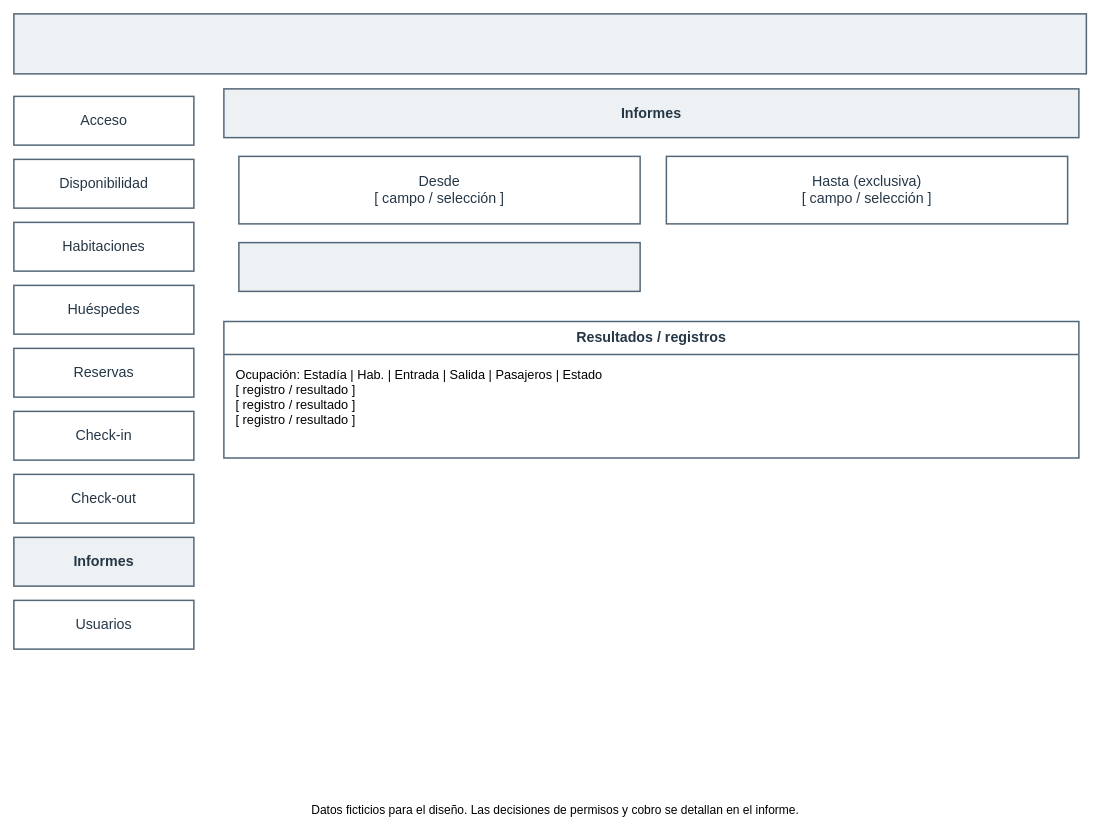
The diagram is 1100 pixels wide and 836 high, and some of its shapes have lost their labels. Here are the shapes that lost their labels. From the top down, the centre of each, then its label:
At (x=550, y=43): "Hotel Duerme Bien · Sistema de pasajeros".
At (x=439, y=267): "Generar informes".
